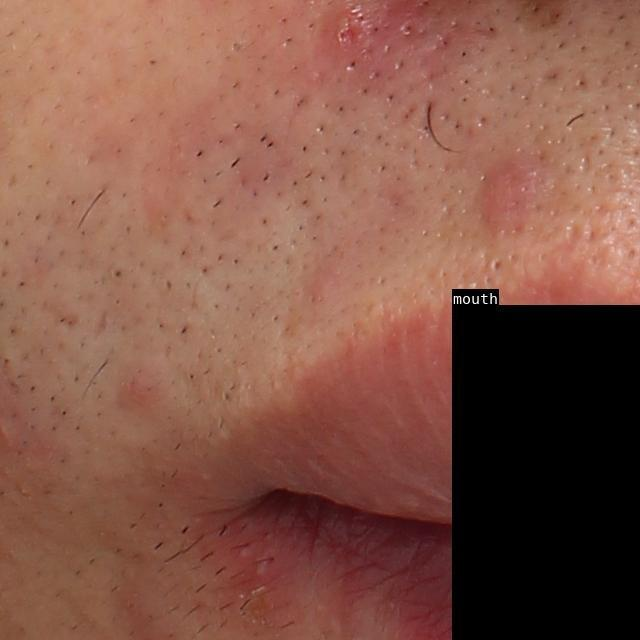papule: (480, 163, 528, 229), (119, 362, 161, 411)
